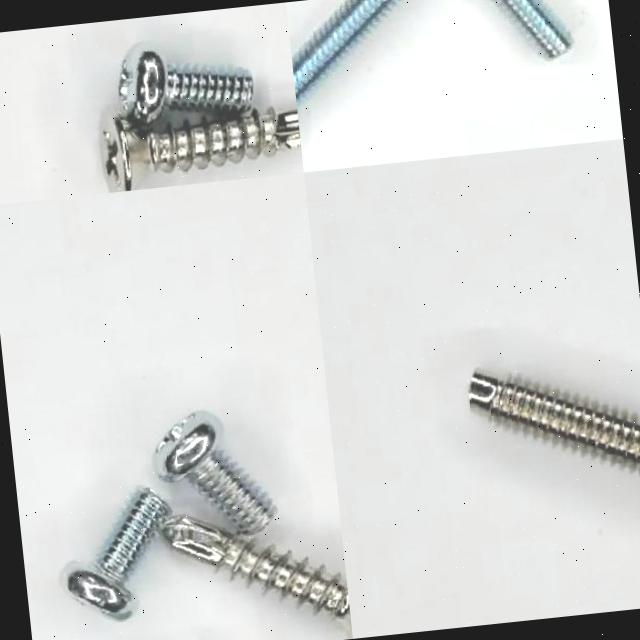Screw: (160, 517, 352, 639), (100, 109, 301, 192), (468, 372, 640, 463), (153, 411, 275, 535), (64, 487, 170, 620), (116, 45, 254, 125), (292, 0, 398, 101), (500, 0, 570, 58)
